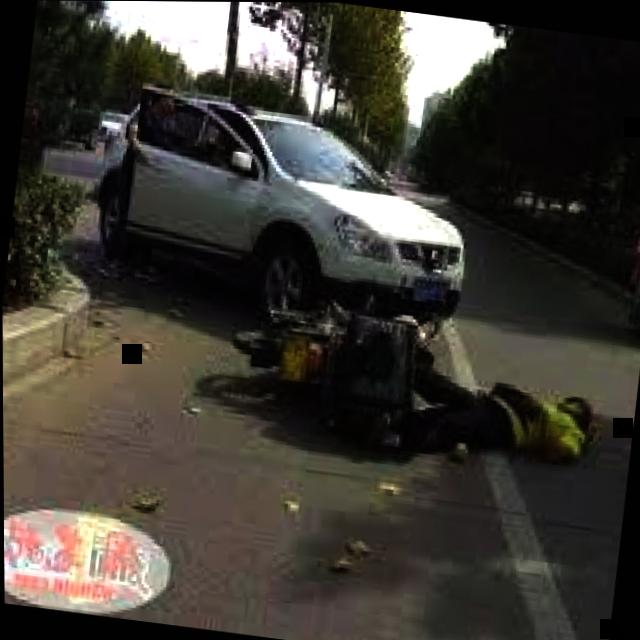Fall-Detected: (357, 331, 621, 483)
